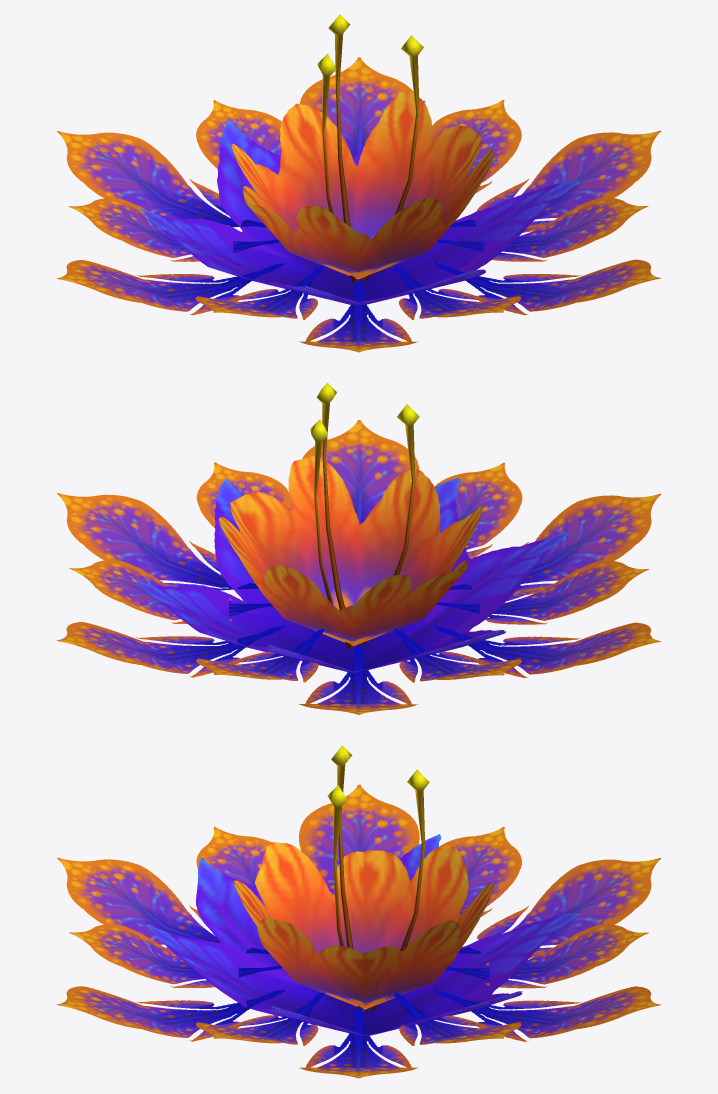
The model's file is Blue_Bush_04a.FBX.
3 renders of one model, top to bottom at view 1: azimuth 30°, elevation 25°; view 2: azimuth 150°, elevation 25°; view 3: azimuth 270°, elevation 25°, orthographic.
Parts seen in each view (by area): view 1: Blue_Bush_04a; view 2: Blue_Bush_04a; view 3: Blue_Bush_04a.
Boxes of the visible parts, left/top/right/bottom form: Blue_Bush_04a: left=57, top=14, right=661, bottom=352; Blue_Bush_04a: left=57, top=382, right=661, bottom=714; Blue_Bush_04a: left=57, top=745, right=661, bottom=1078.
Size of the model in its own units: 165 by 68.29 by 159.
